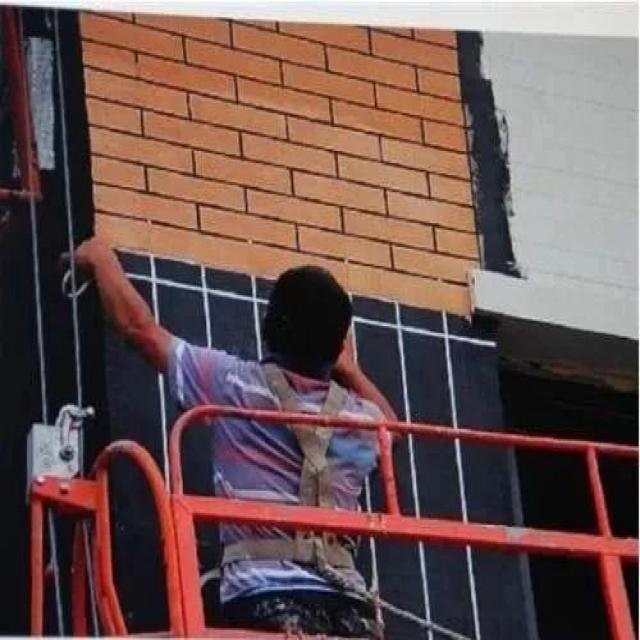Arnes_seguridad: (211, 349, 366, 577)
